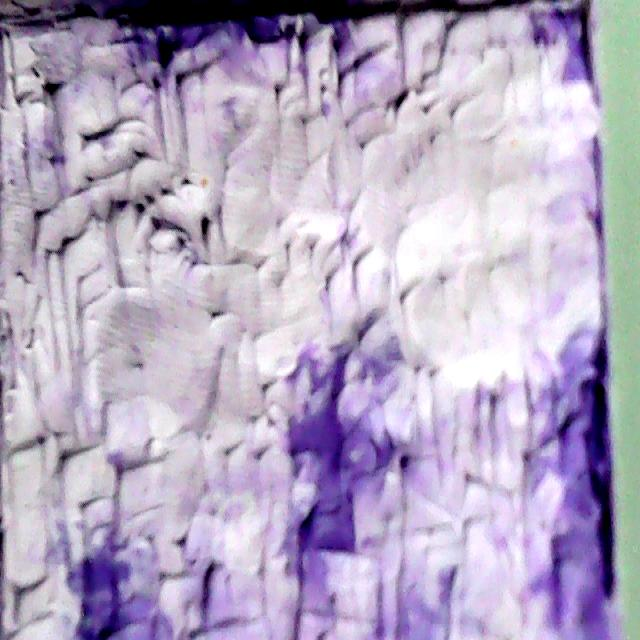block: (2, 16, 635, 640)
